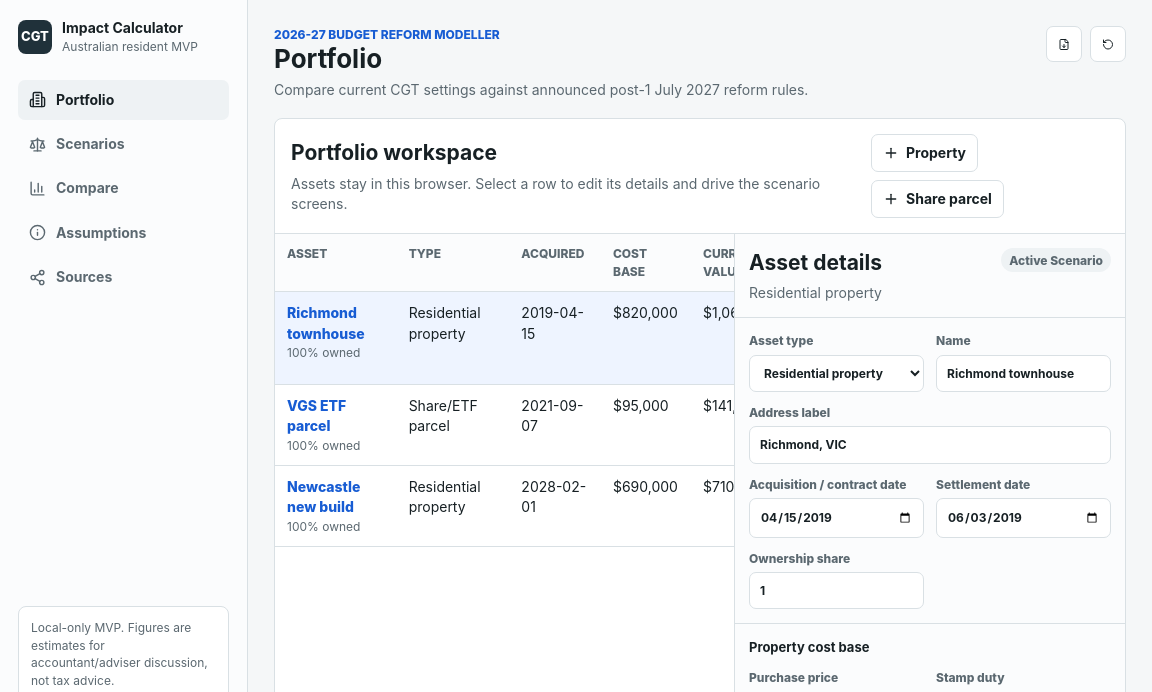
App workspace › renders the portfolio workspace and navigates to compare scenarios
Click the button "Compare": (124,188) [18,168,229,209]
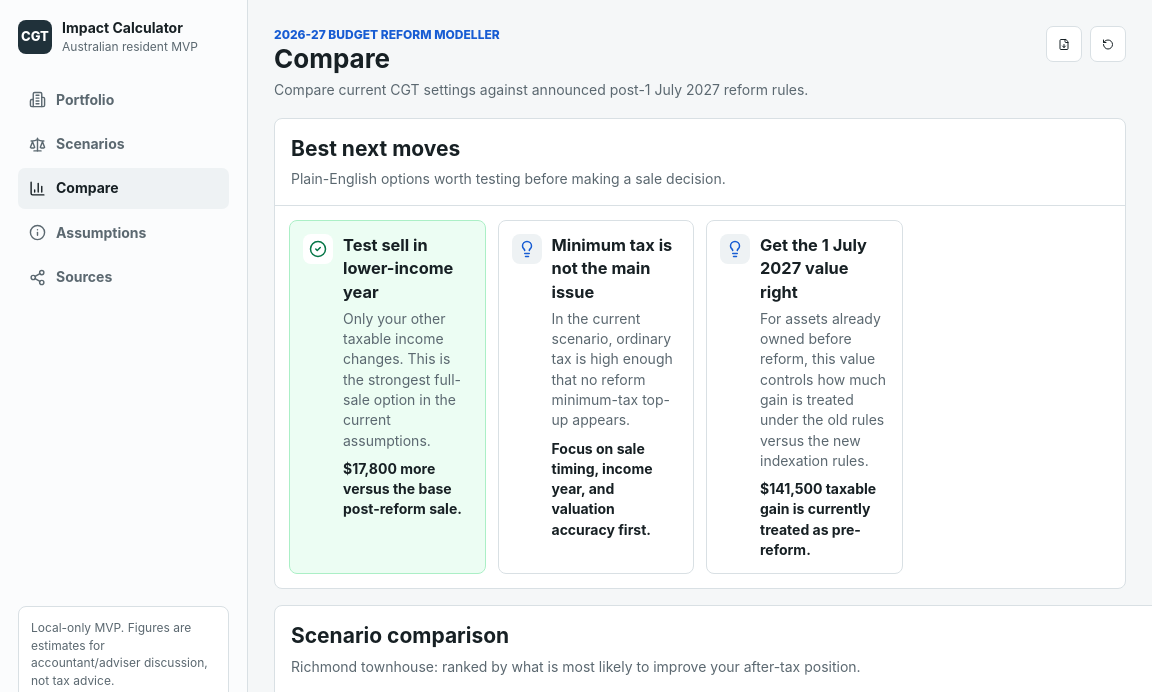
Result: the text "Scenario comparison" is shown at [291,623,509,648]
Result: the text "Best next moves" is shown at [291,136,460,161]
